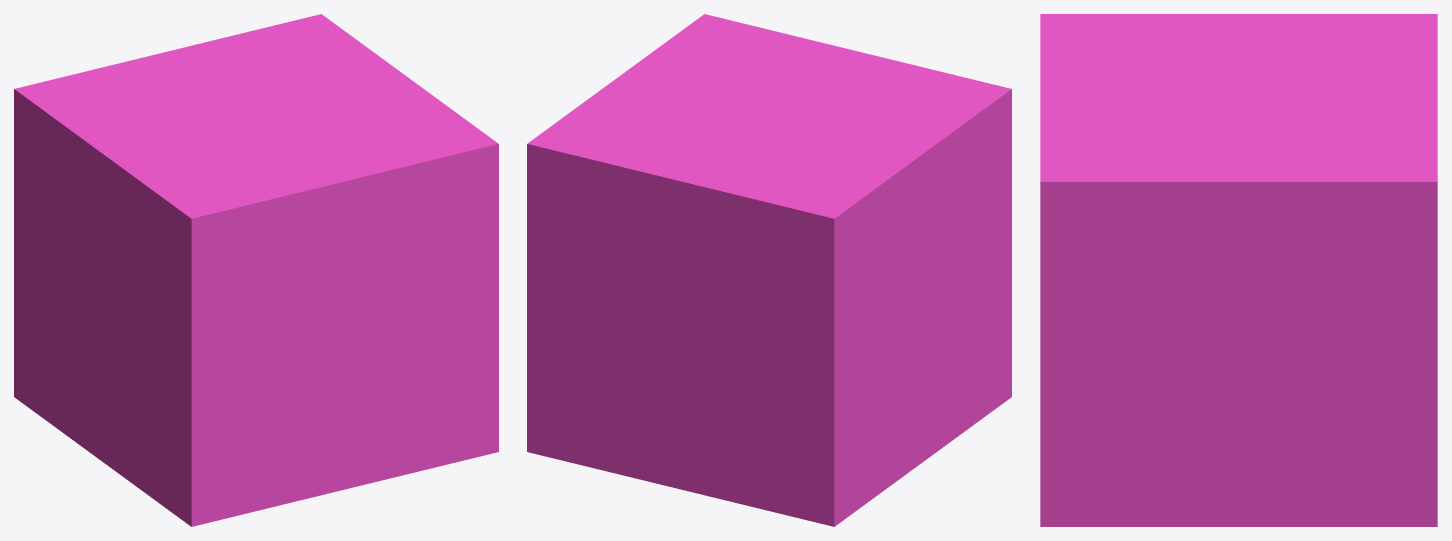
File: stone_harvester.glb
The picture shows the model from 3 angles, left to right: view 1: azimuth 30°, elevation 25°; view 2: azimuth 150°, elevation 25°; view 3: azimuth 270°, elevation 25°; orthographic projection. The views are drawn at different scales.
Visible parts, largest first — view 1: COL_BOX_BODY; view 2: COL_BOX_BODY; view 3: COL_BOX_BODY.
Part boxes in pixels (<box>): COL_BOX_BODY: <box>14,14,498,526</box>; COL_BOX_BODY: <box>527,14,1011,526</box>; COL_BOX_BODY: <box>1040,14,1437,526</box>.
Bounding box in the file's own units: 0.96 × 0.92 × 0.96.
